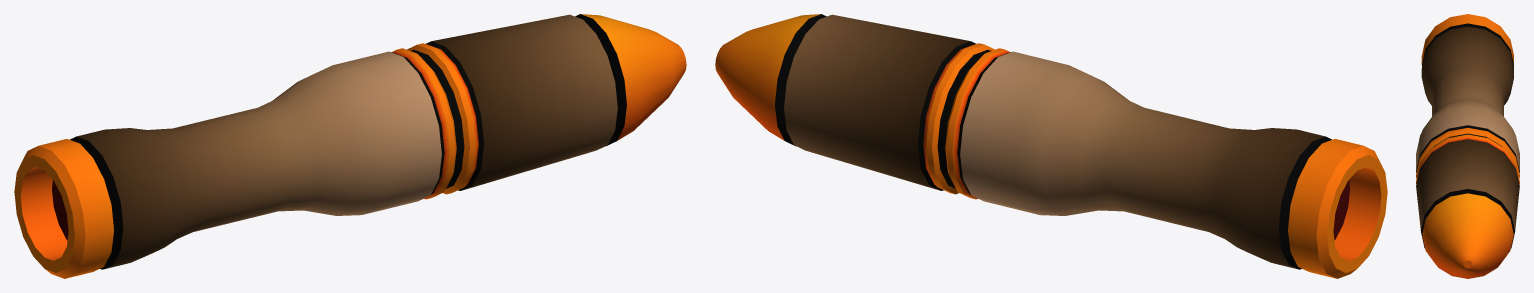
The model's file is Launchershell_GL5.fbx.
The picture shows the model from 3 angles, left to right: view 1: azimuth 30°, elevation 25°; view 2: azimuth 150°, elevation 25°; view 3: azimuth 270°, elevation 25°; orthographic projection. The views are drawn at different scales.
Parts seen in each view (by area): view 1: Launchershell_GL5; view 2: Launchershell_GL5; view 3: Launchershell_GL5.
Boxes of the visible parts, <box> form: Launchershell_GL5: <box>14,14,686,278</box>; Launchershell_GL5: <box>715,14,1387,278</box>; Launchershell_GL5: <box>1416,14,1519,278</box>.
Bounding box in the file's own units: 49.33 × 10.27 × 10.27.
